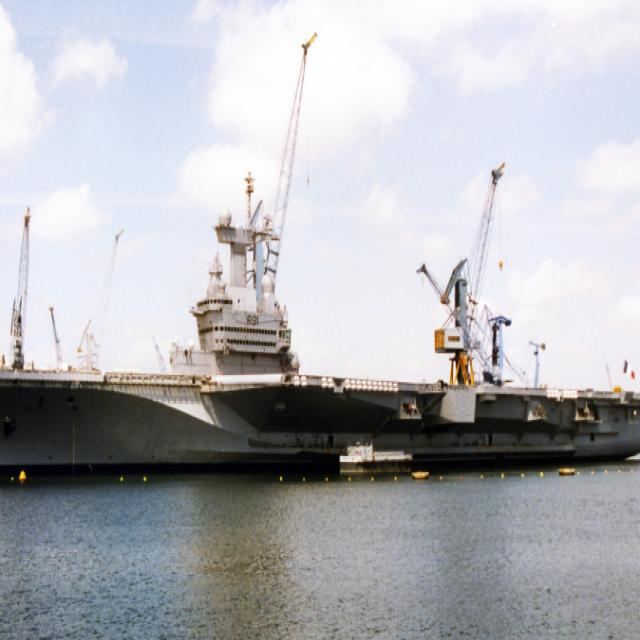Portanaves: (1, 230, 640, 489)
